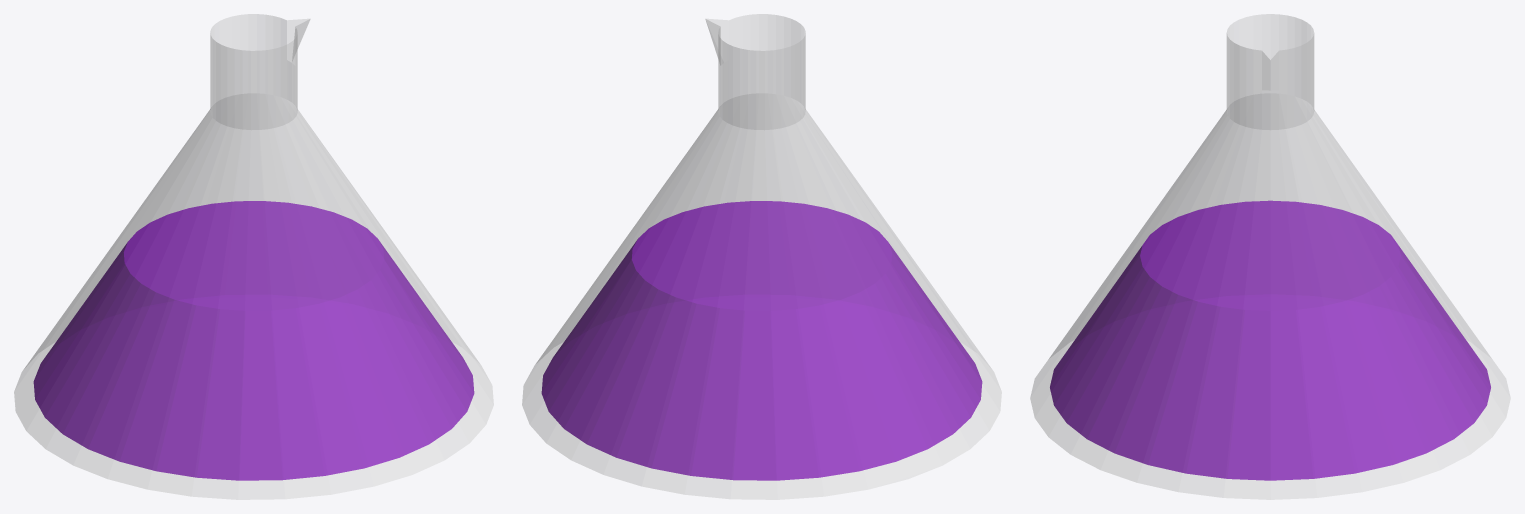
File: flask.fbx
3 renders of one model, left to right at view 1: azimuth 30°, elevation 25°; view 2: azimuth 150°, elevation 25°; view 3: azimuth 270°, elevation 25°, orthographic.
Parts seen in each view (by area): view 1: 円柱; view 2: 円柱; view 3: 円柱.
Part boxes in pixels (box(x1,y1,x2,y2)): 円柱: box(14, 14, 493, 499); 円柱: box(522, 14, 1001, 499); 円柱: box(1030, 14, 1510, 499).
Bounding box in the file's own units: 1100 × 924 × 1100.
